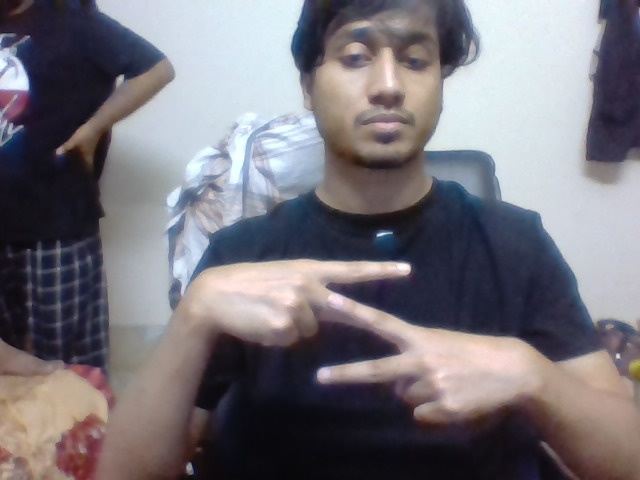Z: (311, 253, 416, 389)
